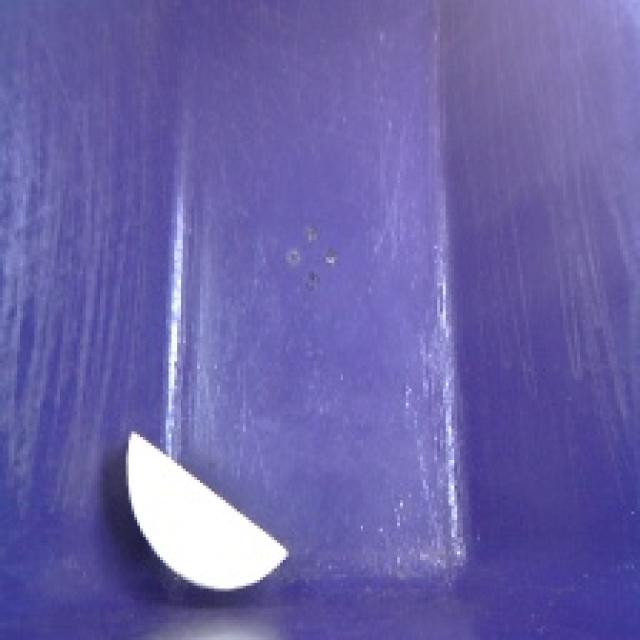white_radish: (117, 420, 299, 606)
